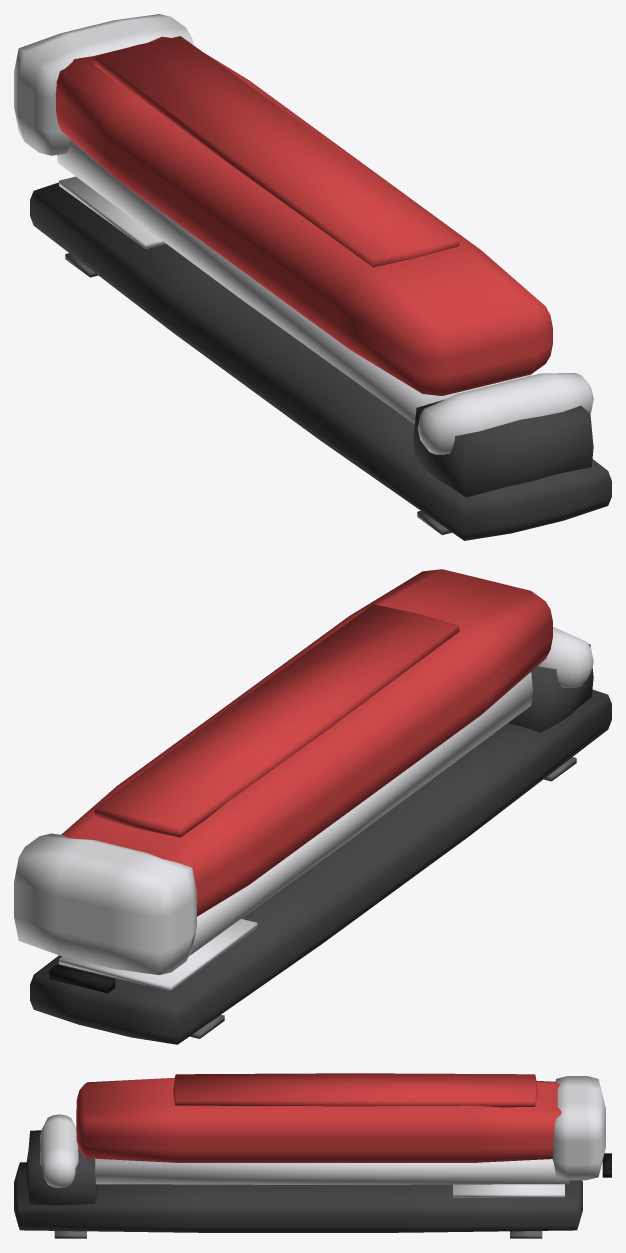
Rendered from stapler.glb.
3 renders of one model, top to bottom at view 1: azimuth 30°, elevation 25°; view 2: azimuth 150°, elevation 25°; view 3: azimuth 270°, elevation 25°, orthographic. The views are drawn at different scales.
Parts seen in each view (by area): view 1: TopArm, Base; view 2: TopArm, Base; view 3: TopArm, Base.
Part boxes in pixels (<box>): TopArm: <box>14,14,593,454</box>; Base: <box>30,176,611,540</box>; TopArm: <box>14,569,593,993</box>; Base: <box>30,644,611,1044</box>; TopArm: <box>40,1073,611,1187</box>; Base: <box>14,1130,582,1238</box>.
Size of the model in its own units: 0.044 by 0.0512 by 0.2101.
